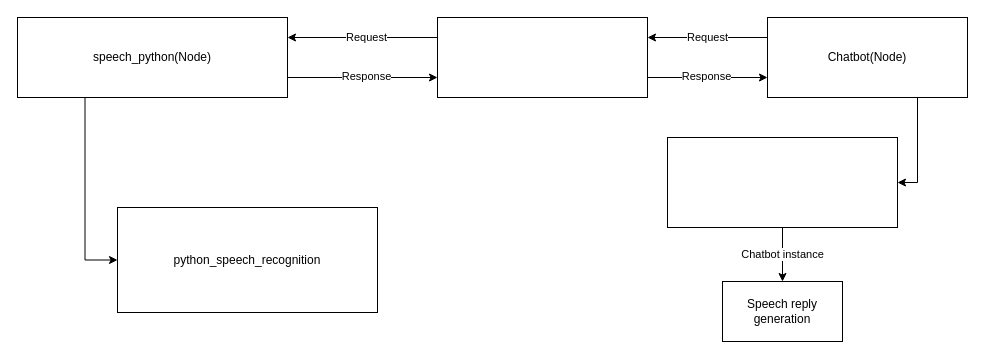
This 985x359 diagram has some shape labels left out. Here are the shapes that lost their labels. From the top down, the centre of each, then its label:
[542,57]: Speech_rec
[782,182]: Behaviortree
